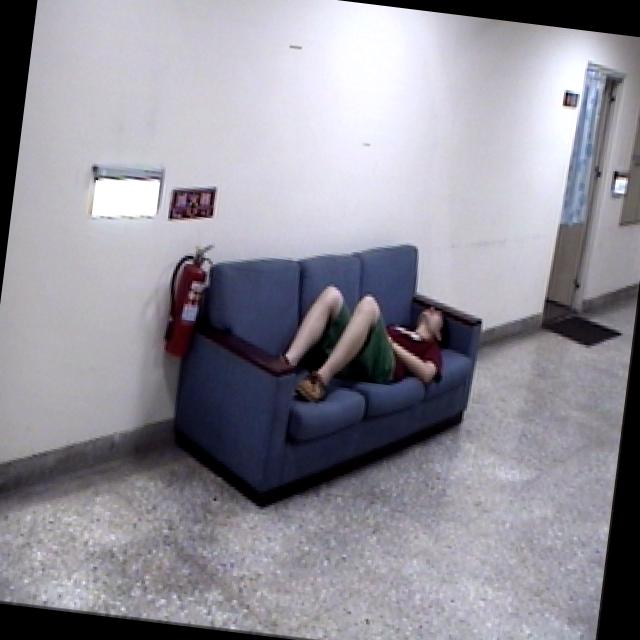lie: (256, 268, 458, 418)
